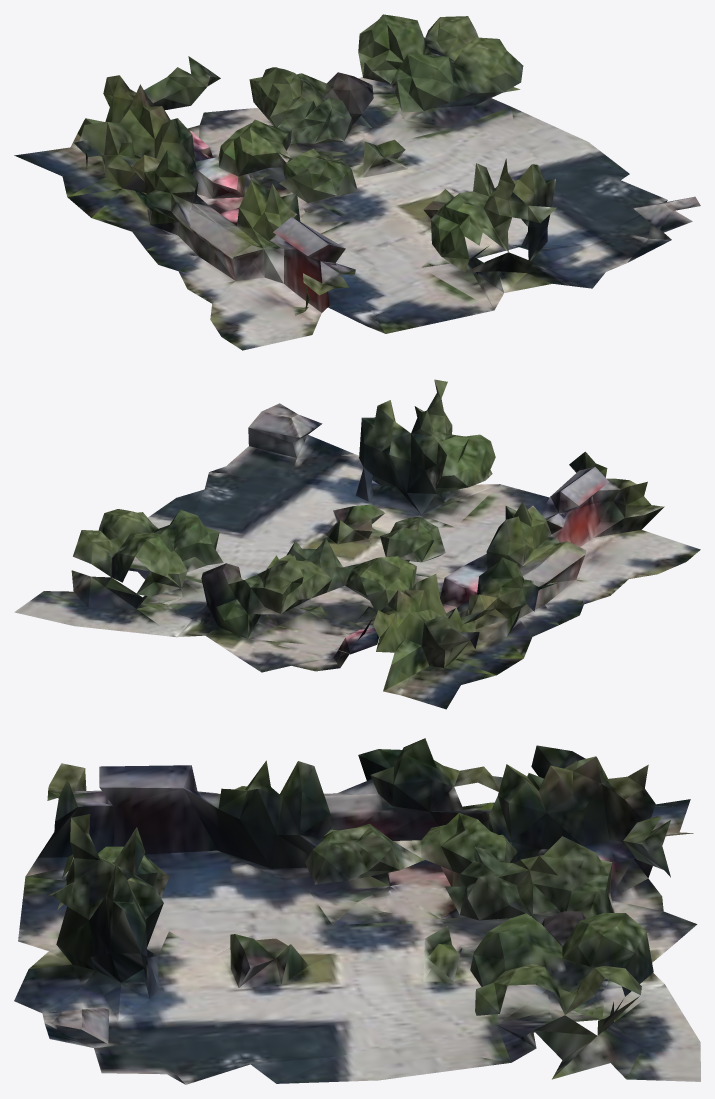
The model's file is Tile_+005_+006_L17_00.glb.
3 views of the same model, one above another, from view 1: azimuth 30°, elevation 25°; view 2: azimuth 150°, elevation 25°; view 3: azimuth 270°, elevation 25° (orthographic). The views are drawn at different scales.
Size of the model in its own units: 60.04 by 14.74 by 59.92.
Materials: 1 (1 with a texture image).
